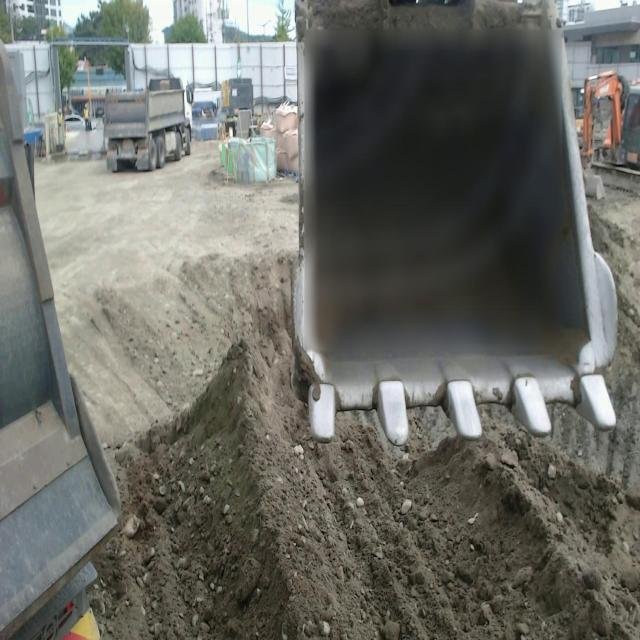white-sand: (90, 254, 640, 639), (37, 142, 297, 443), (557, 173, 640, 488)
